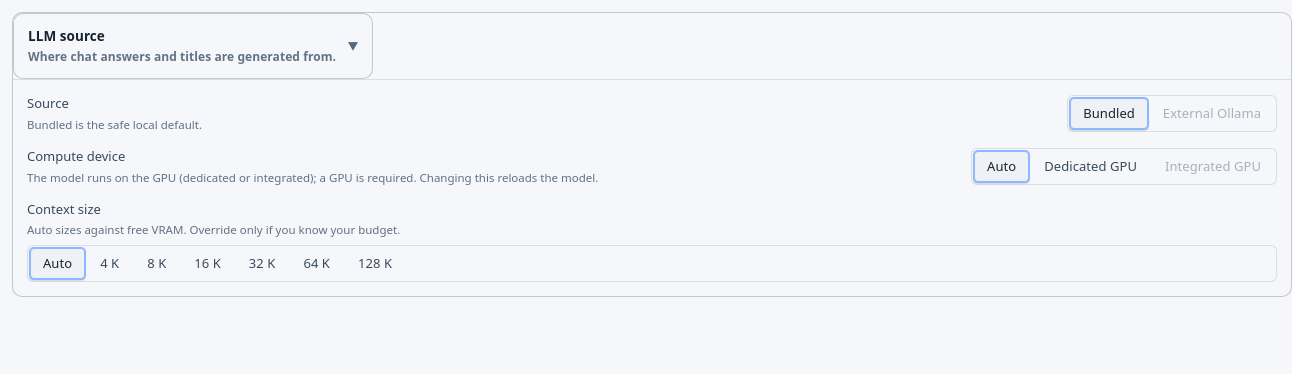
Scenario: Personal settings workflows › shows a failed model preference without continuing to reload
This screenshot has width=1292, height=374.
Click the radio button labelled "Dedicated GPU" at (1091, 166), box [1031, 151, 1150, 182]
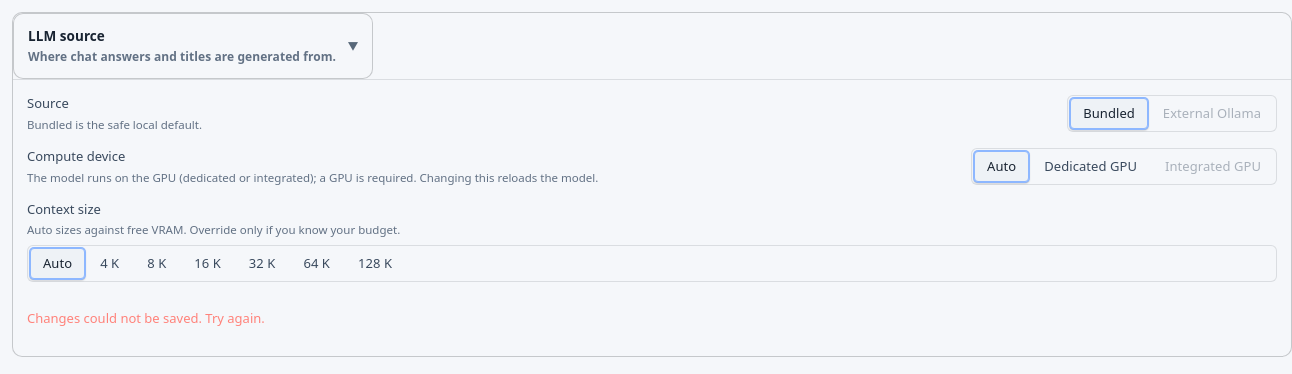
Now the message shows "Changes could not be saved", box [27, 309, 265, 327]
